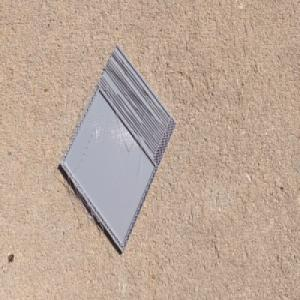PlasticPart: (58, 42, 177, 256)
